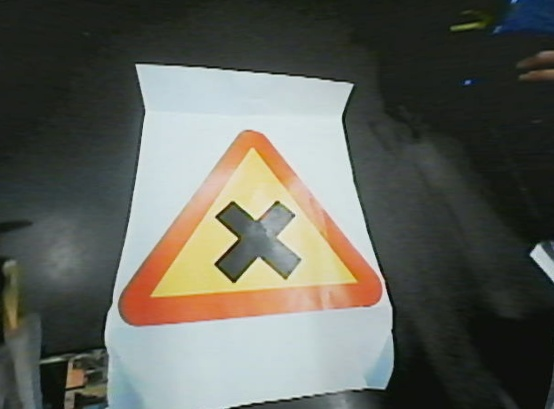junction: (110, 125, 395, 321)
